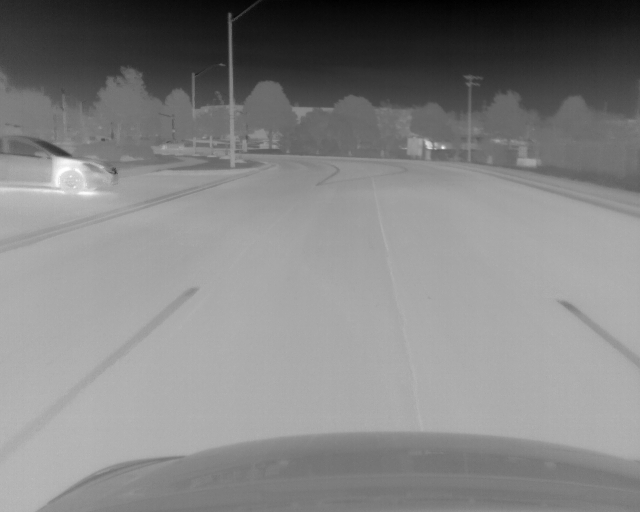car: (1, 132, 116, 194)
